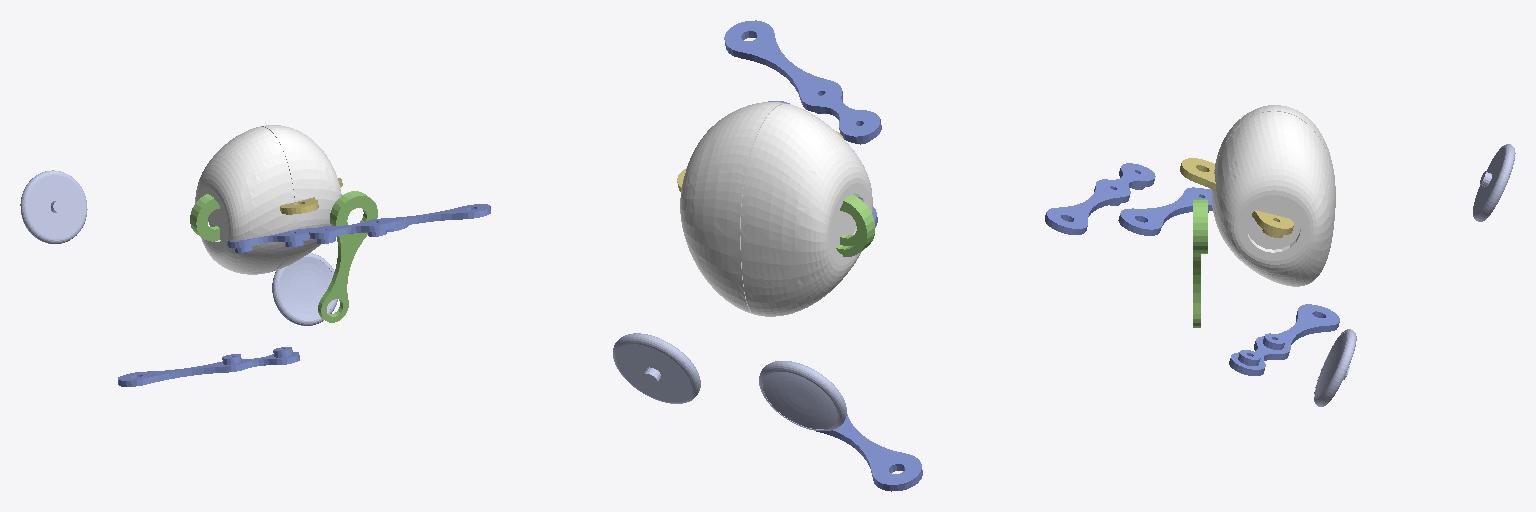
URDF robot description (two_wheel_bot_urdf2):
<?xml version="1.0" encoding="utf-8"?>
<!-- This URDF was automatically created by SolidWorks to URDF Exporter! Originally created by [author] ([email redacted]) 
     Commit Version: 1.6.0-4-g7f85cfe  Build Version: 1.6.7995.38578
     For more information, please see http://wiki.ros.org/sw_urdf_exporter -->
<robot
  name="two_wheel_bot_urdf2">
  <link
    name="base_link">
    <inertial>
      <origin
        xyz="2.14335328662797E-06 0.00342348567006379 0.00381617057001103"
        rpy="0 0 0" />
      <mass
        value="5.2298658429766" />
      <inertia
        ixx="0.025489005982237"
        ixy="5.21058705317494E-07"
        ixz="4.66611982919143E-08"
        iyy="0.0217210539398496"
        iyz="0.00138741262174413"
        izz="0.0300096457219979" />
    </inertial>
    <visual>
      <origin
        xyz="0 0 0"
        rpy="0 0 0" />
      <geometry>
        <mesh
          filename="package://two_wheel_bot_urdf2/meshes/base_link.STL" />
      </geometry>
      <material
        name="">
        <color
          rgba="1 1 1 1" />
      </material>
    </visual>
    <collision>
      <origin
        xyz="0 0 0"
        rpy="0 0 0" />
      <geometry>
        <mesh
          filename="package://two_wheel_bot_urdf2/meshes/base_link.STL" />
      </geometry>
    </collision>
  </link>
  <link
    name="link1L">
    <inertial>
      <origin
        xyz="0.0108777063074832 -0.0397889475658975 0.00778255875143549"
        rpy="0 0 0" />
      <mass
        value="0.0920897104333794" />
      <inertia
        ixx="0.000307092569540675"
        ixy="7.49468235007504E-05"
        ixz="-2.22126594452678E-06"
        iyy="5.34381631310313E-05"
        iyz="8.12504324886133E-06"
        izz="0.00035581745234253" />
    </inertial>
    <visual>
      <origin
        xyz="0 0 0"
        rpy="0 0 0" />
      <geometry>
        <mesh
          filename="package://two_wheel_bot_urdf2/meshes/link1L.STL" />
      </geometry>
      <material
        name="">
        <color
          rgba="0.647058823529412 0.854901960784314 0.533333333333333 1" />
      </material>
    </visual>
    <collision>
      <origin
        xyz="0 0 0"
        rpy="0 0 0" />
      <geometry>
        <mesh
          filename="package://two_wheel_bot_urdf2/meshes/link1L.STL" />
      </geometry>
    </collision>
  </link>
  <joint
    name="joint1L"
    type="revolute">
    <origin
      xyz="-0.095 0 0"
      rpy="1.5708 0 -1.5708" />
    <parent
      link="base_link" />
    <child
      link="link1L" />
    <axis
      xyz="0 0 1" />
    <limit
      lower="0"
      upper="0"
      effort="0"
      velocity="0" />
  </joint>
  <link
    name="link2L">
    <inertial>
      <origin
        xyz="-0.00515284036557172 0.027572931554392 0.0085062852456701"
        rpy="0 0 0" />
      <mass
        value="0.0420641577581413" />
      <inertia
        ixx="5.99401018480782E-05"
        ixy="9.87270978817433E-06"
        ixz="3.23762508752024E-07"
        iyy="8.95608912295947E-06"
        iyz="-1.73245838418425E-06"
        izz="6.71261903455831E-05" />
    </inertial>
    <visual>
      <origin
        xyz="0 0 0"
        rpy="0 0 0" />
      <geometry>
        <mesh
          filename="package://two_wheel_bot_urdf2/meshes/link2L.STL" />
      </geometry>
      <material
        name="">
        <color
          rgba="0.854901960784314 0.803921568627451 0.529411764705882 1" />
      </material>
    </visual>
    <collision>
      <origin
        xyz="0 0 0"
        rpy="0 0 0" />
      <geometry>
        <mesh
          filename="package://two_wheel_bot_urdf2/meshes/link2L.STL" />
      </geometry>
    </collision>
  </link>
  <joint
    name="joint2L"
    type="revolute">
    <origin
      xyz="0 0 0.01"
      rpy="0 0 -1.3039" />
    <parent
      link="link1L" />
    <child
      link="link2L" />
    <axis
      xyz="0 0 1" />
    <limit
      lower="0"
      upper="0"
      effort="0"
      velocity="0" />
  </joint>
  <link
    name="link3L">
    <inertial>
      <origin
        xyz="-0.0106862513365372 -0.0571823025304896 -0.00887815058461651"
        rpy="0 0 0" />
      <mass
        value="0.0560073858489449" />
      <inertia
        ixx="0.000218764528266537"
        ixy="-3.93869721743533E-05"
        ixz="-6.71436973865583E-07"
        iyy="1.53648605332619E-05"
        iyz="-3.59287003090283E-06"
        izz="0.000232080271062819" />
    </inertial>
    <visual>
      <origin
        xyz="0 0 0"
        rpy="0 0 0" />
      <geometry>
        <mesh
          filename="package://two_wheel_bot_urdf2/meshes/link3L.STL" />
      </geometry>
      <material
        name="">
        <color
          rgba="0.862745098039216 0.549019607843137 0.545098039215686 1" />
      </material>
    </visual>
    <collision>
      <origin
        xyz="0 0 0"
        rpy="0 0 0" />
      <geometry>
        <mesh
          filename="package://two_wheel_bot_urdf2/meshes/link3L.STL" />
      </geometry>
    </collision>
  </link>
  <joint
    name="joint3L"
    type="revolute">
    <origin
      xyz="-0.014696 0.078639 0.01"
      rpy="0 0 1.7555" />
    <parent
      link="link2L" />
    <child
      link="link3L" />
    <axis
      xyz="0 0 -1" />
    <limit
      lower="0"
      upper="0"
      effort="0"
      velocity="0" />
  </joint>
  <link
    name="link4L">
    <inertial>
      <origin
        xyz="0.0203083925778099 -0.108670534850872 0.00878355121424736"
        rpy="0 0 0" />
      <mass
        value="0.103303737580571" />
      <inertia
        ixx="0.000773569071719839"
        ixy="0.000141436809479321"
        ixz="-1.62865032492976E-06"
        iyy="4.31701995748469E-05"
        iyz="8.71493404596558E-06"
        izz="0.00081280999513764" />
    </inertial>
    <visual>
      <origin
        xyz="0 0 0"
        rpy="0 0 0" />
      <geometry>
        <mesh
          filename="package://two_wheel_bot_urdf2/meshes/link4L.STL" />
      </geometry>
      <material
        name="">
        <color
          rgba="0.545098039215686 0.615686274509804 0.858823529411765 1" />
      </material>
    </visual>
    <collision>
      <origin
        xyz="0 0 0"
        rpy="0 0 0" />
      <geometry>
        <mesh
          filename="package://two_wheel_bot_urdf2/meshes/link4L.STL" />
      </geometry>
    </collision>
  </link>
  <joint
    name="joint4L"
    type="revolute">
    <origin
      xyz="-0.027555 -0.14745 -0.01"
      rpy="0 0 -1.7555" />
    <parent
      link="link3L" />
    <child
      link="link4L" />
    <axis
      xyz="0 0 1" />
    <limit
      lower="0"
      upper="0"
      effort="0"
      velocity="0" />
  </joint>
  <link
    name="wheelL">
    <inertial>
      <origin
        xyz="-6.10622663543836E-16 7.49400541621981E-16 0.0111042006258997"
        rpy="0 0 0" />
      <mass
        value="0.126219698224412" />
      <inertia
        ixx="0.000106473363883809"
        ixy="6.7762635780344E-21"
        ixz="-2.48860382094019E-20"
        iyy="0.000106473363883809"
        iyz="-5.86012409769799E-21"
        izz="0.000208789081658998" />
    </inertial>
    <visual>
      <origin
        xyz="0 0 0"
        rpy="0 0 0" />
      <geometry>
        <mesh
          filename="package://two_wheel_bot_urdf2/meshes/wheelL.STL" />
      </geometry>
      <material
        name="">
        <color
          rgba="0.792156862745098 0.819607843137255 0.933333333333333 1" />
      </material>
    </visual>
    <collision>
      <origin
        xyz="0 0 0"
        rpy="0 0 0" />
      <geometry>
        <mesh
          filename="package://two_wheel_bot_urdf2/meshes/wheelL.STL" />
      </geometry>
    </collision>
  </link>
  <joint
    name="wheeljointL"
    type="continuous">
    <origin
      xyz="0.042251 -0.22609 0.01"
      rpy="0 0 -1.386" />
    <parent
      link="link4L" />
    <child
      link="wheelL" />
    <axis
      xyz="0 0 1" />
  </joint>
  <link
    name="link4_1L">
    <inertial>
      <origin
        xyz="0.00561238240027584 -0.030031948362666 0.00878355121424738"
        rpy="0 0 0" />
      <mass
        value="0.103303737580571" />
      <inertia
        ixx="0.000773569071719824"
        ixy="0.000141436809479358"
        ixz="-1.62865032493019E-06"
        iyy="4.3170199574861E-05"
        iyz="8.7149340459655E-06"
        izz="0.00081280999513764" />
    </inertial>
    <visual>
      <origin
        xyz="0 0 0"
        rpy="0 0 0" />
      <geometry>
        <mesh
          filename="package://two_wheel_bot_urdf2/meshes/link4_1L.STL" />
      </geometry>
      <material
        name="">
        <color
          rgba="0.545098039215686 0.615686274509804 0.858823529411765 1" />
      </material>
    </visual>
    <collision>
      <origin
        xyz="0 0 0"
        rpy="0 0 0" />
      <geometry>
        <mesh
          filename="package://two_wheel_bot_urdf2/meshes/link4_1L.STL" />
      </geometry>
    </collision>
  </link>
  <joint
    name="joint4_1L"
    type="revolute">
    <origin
      xyz="0.039556 -0.14469 0.01"
      rpy="0 0 -1.3039" />
    <parent
      link="link1L" />
    <child
      link="link4_1L" />
    <axis
      xyz="0 0 1" />
    <limit
      lower="0"
      upper="0"
      effort="0"
      velocity="0" />
  </joint>
  <link
    name="link1R">
    <inertial>
      <origin
        xyz="-0.0108777063074823 -0.0397889475658978 0.00778255875143549"
        rpy="0 0 0" />
      <mass
        value="0.0920897104333794" />
      <inertia
        ixx="0.000307092569540679"
        ixy="-7.49468235007446E-05"
        ixz="2.22126594452659E-06"
        iyy="5.34381631310279E-05"
        iyz="8.12504324886132E-06"
        izz="0.00035581745234253" />
    </inertial>
    <visual>
      <origin
        xyz="0 0 0"
        rpy="0 0 0" />
      <geometry>
        <mesh
          filename="package://two_wheel_bot_urdf2/meshes/link1R.STL" />
      </geometry>
      <material
        name="">
        <color
          rgba="0.647058823529412 0.854901960784314 0.533333333333333 1" />
      </material>
    </visual>
    <collision>
      <origin
        xyz="0 0 0"
        rpy="0 0 0" />
      <geometry>
        <mesh
          filename="package://two_wheel_bot_urdf2/meshes/link1R.STL" />
      </geometry>
    </collision>
  </link>
  <joint
    name="joint1R"
    type="revolute">
    <origin
      xyz="0.095 0 0"
      rpy="1.5708 0 1.5708" />
    <parent
      link="base_link" />
    <child
      link="link1R" />
    <axis
      xyz="0 0 1" />
    <limit
      lower="0"
      upper="0"
      effort="0"
      velocity="0" />
  </joint>
  <link
    name="link2R">
    <inertial>
      <origin
        xyz="-0.00515284036557377 -0.0275729315543916 0.00850628524567011"
        rpy="0 0 0" />
      <mass
        value="0.0420641577581413" />
      <inertia
        ixx="5.99401018480767E-05"
        ixy="-9.87270978817812E-06"
        ixz="3.23762508752149E-07"
        iyy="8.95608912296094E-06"
        iyz="1.73245838418421E-06"
        izz="6.71261903455832E-05" />
    </inertial>
    <visual>
      <origin
        xyz="0 0 0"
        rpy="0 0 0" />
      <geometry>
        <mesh
          filename="package://two_wheel_bot_urdf2/meshes/link2R.STL" />
      </geometry>
      <material
        name="">
        <color
          rgba="0.854901960784314 0.803921568627451 0.529411764705882 1" />
      </material>
    </visual>
    <collision>
      <origin
        xyz="0 0 0"
        rpy="0 0 0" />
      <geometry>
        <mesh
          filename="package://two_wheel_bot_urdf2/meshes/link2R.STL" />
      </geometry>
    </collision>
  </link>
  <joint
    name="joint2R"
    type="revolute">
    <origin
      xyz="0 0 0.01"
      rpy="0 0 -1.8377" />
    <parent
      link="link1R" />
    <child
      link="link2R" />
    <axis
      xyz="0 0 1" />
    <limit
      lower="0"
      upper="0"
      effort="0"
      velocity="0" />
  </joint>
  <link
    name="link3R">
    <inertial>
      <origin
        xyz="-0.0106862513365432 0.0571823025304968 -0.00887815058461655"
        rpy="0 0 0" />
      <mass
        value="0.0560073858489449" />
      <inertia
        ixx="0.000218764528266529"
        ixy="3.93869721743741E-05"
        ixz="-6.71436973865969E-07"
        iyy="1.53648605332699E-05"
        iyz="3.59287003090279E-06"
        izz="0.000232080271062819" />
    </inertial>
    <visual>
      <origin
        xyz="0 0 0"
        rpy="0 0 0" />
      <geometry>
        <mesh
          filename="package://two_wheel_bot_urdf2/meshes/link3R.STL" />
      </geometry>
      <material
        name="">
        <color
          rgba="0.862745098039216 0.549019607843137 0.545098039215686 1" />
      </material>
    </visual>
    <collision>
      <origin
        xyz="0 0 0"
        rpy="0 0 0" />
      <geometry>
        <mesh
          filename="package://two_wheel_bot_urdf2/meshes/link3R.STL" />
      </geometry>
    </collision>
  </link>
  <joint
    name="joint3R"
    type="revolute">
    <origin
      xyz="-0.014696 -0.078639 0.01"
      rpy="0 0 -1.7555" />
    <parent
      link="link2R" />
    <child
      link="link3R" />
    <axis
      xyz="0 0 -1" />
    <limit
      lower="0"
      upper="0"
      effort="0"
      velocity="0" />
  </joint>
  <link
    name="link4R">
    <inertial>
      <origin
        xyz="0.0203083925778119 0.108670534850862 0.0087835512142474"
        rpy="0 0 0" />
      <mass
        value="0.103303737580571" />
      <inertia
        ixx="0.00077356907171982"
        ixy="-0.000141436809479367"
        ixz="-1.62865032493035E-06"
        iyy="4.31701995748644E-05"
        iyz="-8.71493404596562E-06"
        izz="0.00081280999513764" />
    </inertial>
    <visual>
      <origin
        xyz="0 0 0"
        rpy="0 0 0" />
      <geometry>
        <mesh
          filename="package://two_wheel_bot_urdf2/meshes/link4R.STL" />
      </geometry>
      <material
        name="">
        <color
          rgba="0.545098039215686 0.615686274509804 0.858823529411765 1" />
      </material>
    </visual>
    <collision>
      <origin
        xyz="0 0 0"
        rpy="0 0 0" />
      <geometry>
        <mesh
          filename="package://two_wheel_bot_urdf2/meshes/link4R.STL" />
      </geometry>
    </collision>
  </link>
  <joint
    name="joint4R"
    type="revolute">
    <origin
      xyz="-0.027555 0.14745 -0.01"
      rpy="0 0 1.7555" />
    <parent
      link="link3R" />
    <child
      link="link4R" />
    <axis
      xyz="0 0 1" />
    <limit
      lower="0"
      upper="0"
      effort="0"
      velocity="0" />
  </joint>
  <link
    name="wheelR">
    <inertial>
      <origin
        xyz="7.49400541621981E-16 8.88178419700125E-16 0.0111042006258996"
        rpy="0 0 0" />
      <mass
        value="0.126219698224412" />
      <inertia
        ixx="0.000106473363883807"
        ixy="0"
        ixz="2.50484313697451E-20"
        iyy="0.000106473363883807"
        iyz="2.64825220519381E-21"
        izz="0.000208789081658998" />
    </inertial>
    <visual>
      <origin
        xyz="0 0 0"
        rpy="0 0 0" />
      <geometry>
        <mesh
          filename="package://two_wheel_bot_urdf2/meshes/wheelR.STL" />
      </geometry>
      <material
        name="">
        <color
          rgba="0.792156862745098 0.819607843137255 0.933333333333333 1" />
      </material>
    </visual>
    <collision>
      <origin
        xyz="0 0 0"
        rpy="0 0 0" />
      <geometry>
        <mesh
          filename="package://two_wheel_bot_urdf2/meshes/wheelR.STL" />
      </geometry>
    </collision>
  </link>
  <joint
    name="wheeljointR"
    type="continuous">
    <origin
      xyz="0.042251 0.22609 0.01"
      rpy="0 0 1.386" />
    <parent
      link="link4R" />
    <child
      link="wheelR" />
    <axis
      xyz="0 0 1" />
  </joint>
  <link
    name="link4_1R">
    <inertial>
      <origin
        xyz="0.00561238240027687 0.0300319483626608 0.00878355121424738"
        rpy="0 0 0" />
      <mass
        value="0.103303737580571" />
      <inertia
        ixx="0.000773569071719814"
        ixy="-0.000141436809479382"
        ixz="-1.62865032493053E-06"
        iyy="4.31701995748703E-05"
        iyz="-8.71493404596558E-06"
        izz="0.000812809995137639" />
    </inertial>
    <visual>
      <origin
        xyz="0 0 0"
        rpy="0 0 0" />
      <geometry>
        <mesh
          filename="package://two_wheel_bot_urdf2/meshes/link4_1R.STL" />
      </geometry>
      <material
        name="">
        <color
          rgba="0.545098039215686 0.615686274509804 0.858823529411765 1" />
      </material>
    </visual>
    <collision>
      <origin
        xyz="0 0 0"
        rpy="0 0 0" />
      <geometry>
        <mesh
          filename="package://two_wheel_bot_urdf2/meshes/link4_1R.STL" />
      </geometry>
    </collision>
  </link>
  <joint
    name="joint4_1R"
    type="revolute">
    <origin
      xyz="-0.039556 -0.14469 0.01"
      rpy="0 0 -1.8377" />
    <parent
      link="link1R" />
    <child
      link="link4_1R" />
    <axis
      xyz="0 0 1" />
    <limit
      lower="0"
      upper="0"
      effort="0"
      velocity="0" />
  </joint>
</robot>

--- What the picture shows (computed from the rendered views, not written in the file) ---
Views: 3 orthographic renders of the robot side by side, from view 1: azimuth 30°, elevation 25°; view 2: azimuth 150°, elevation 25°; view 3: azimuth 270°, elevation 25°.
Model two_wheel_bot_urdf2 with 13 links and 12 joints (10 revolute, 2 continuous), rooted at base_link, posed every joint at zero.
Links seen in each view (by area): view 1: base_link, wheelL, wheelR, link1R, link4L, link4R, link4_1R, link1L; view 2: base_link, link4R, wheelL, wheelR, link4L, link1L; view 3: base_link, link4L, link4R, link4_1R, wheelR, wheelL, link2R, link1R.
Boxes of the visible links, bbox=[...] form: base_link: bbox=[195, 125, 341, 274]; wheelL: bbox=[20, 170, 87, 243]; wheelR: bbox=[272, 253, 337, 325]; link1R: bbox=[318, 191, 377, 322]; link4L: bbox=[118, 347, 299, 386]; link4R: bbox=[309, 204, 490, 243]; link4_1R: bbox=[227, 217, 408, 252]; link1L: bbox=[190, 194, 219, 241]; base_link: bbox=[680, 102, 872, 316]; link4R: bbox=[724, 20, 881, 144]; wheelL: bbox=[759, 361, 846, 430]; wheelR: bbox=[613, 333, 700, 403]; link4L: bbox=[816, 414, 922, 491]; link1L: bbox=[836, 195, 875, 256]; base_link: bbox=[1212, 105, 1335, 286]; link4L: bbox=[1229, 304, 1339, 375]; link4R: bbox=[1045, 163, 1155, 234]; link4_1R: bbox=[1118, 187, 1212, 235]; wheelR: bbox=[1314, 329, 1356, 406]; wheelL: bbox=[1473, 144, 1515, 221]; link2R: bbox=[1180, 158, 1293, 237]; link1R: bbox=[1193, 199, 1207, 327].
Bounding box of the posed robot: 0.4979 × 0.6452 × 0.4188 m (x, y, z).
Meshes: 13 distinct files referenced, 9 mesh visuals loaded (9 binary STL); not drawn: 4 (reference not matched to a file when rendering).